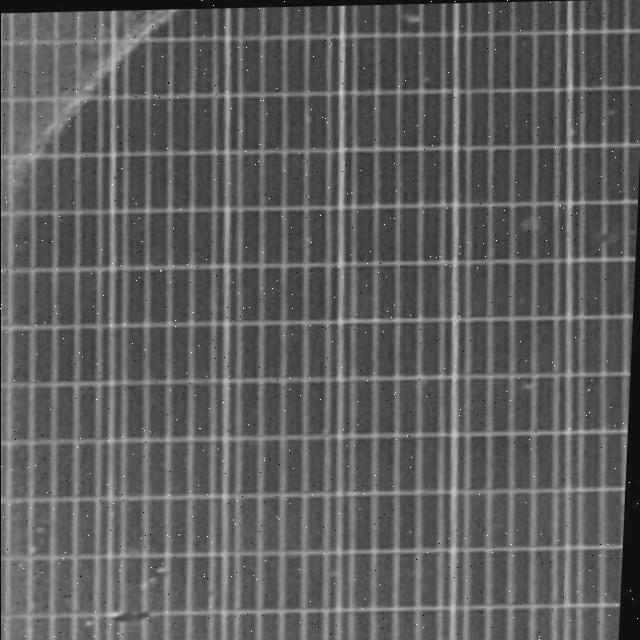Surface Contaminant: (0, 5, 217, 250)
